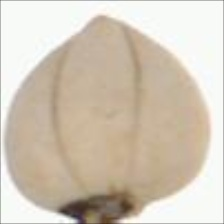L5: (49, 10, 142, 195), (52, 194, 151, 224)
L6: (1, 11, 223, 222)
